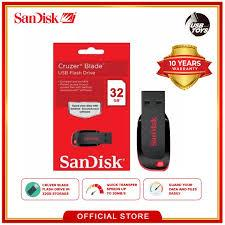Flash-drive: (138, 85, 177, 174), (65, 125, 124, 148)
